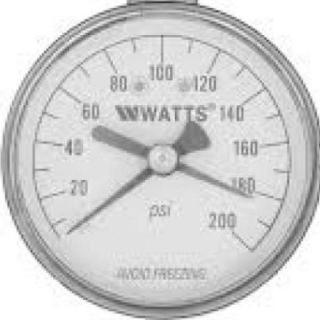gauge: (0, 0, 320, 320), (146, 142, 180, 176), (43, 207, 71, 248), (220, 220, 254, 252), (244, 191, 260, 203), (64, 224, 75, 238)
